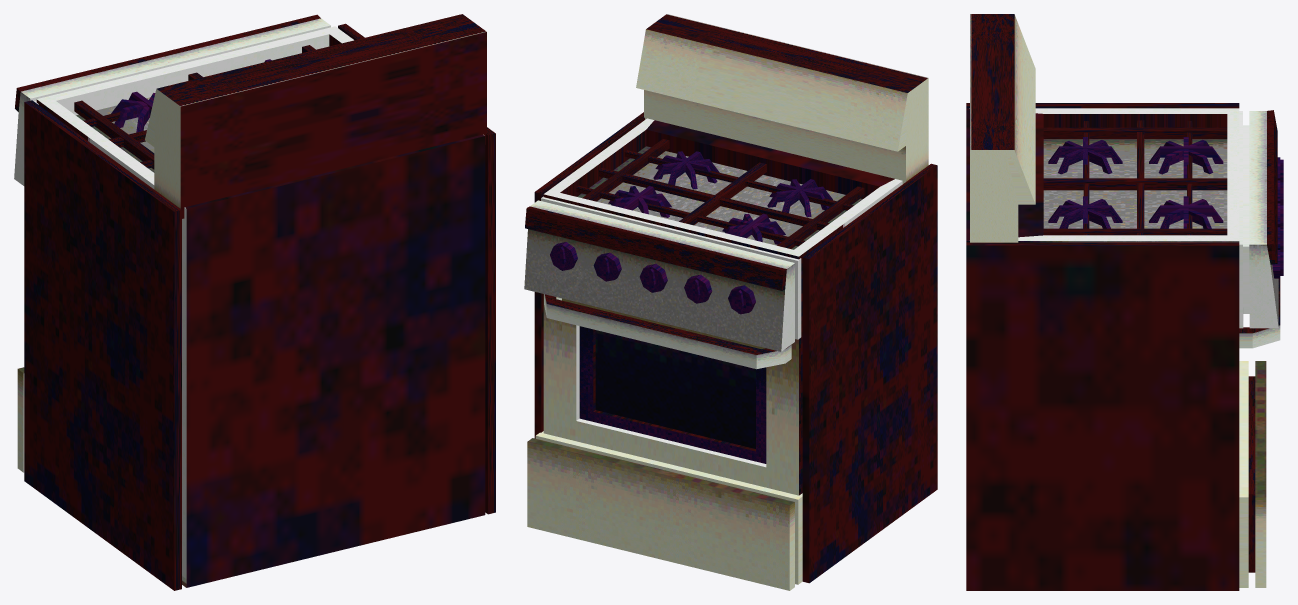
Rendered from LPOven.obj.
The picture shows the model from 3 angles, left to right: view 1: azimuth 30°, elevation 25°; view 2: azimuth 150°, elevation 25°; view 3: azimuth 270°, elevation 25°; orthographic projection. The views are drawn at different scales.
Visible parts, largest first — view 1: Cube.035; view 2: Cube.035; view 3: Cube.035.
Boxes of the visible parts, x1,y1,x2,y2 form: Cube.035: (14, 14, 495, 590); Cube.035: (524, 14, 937, 590); Cube.035: (966, 14, 1283, 590).
Bounding box in the file's own units: 1.96 × 2.81 × 1.84.
